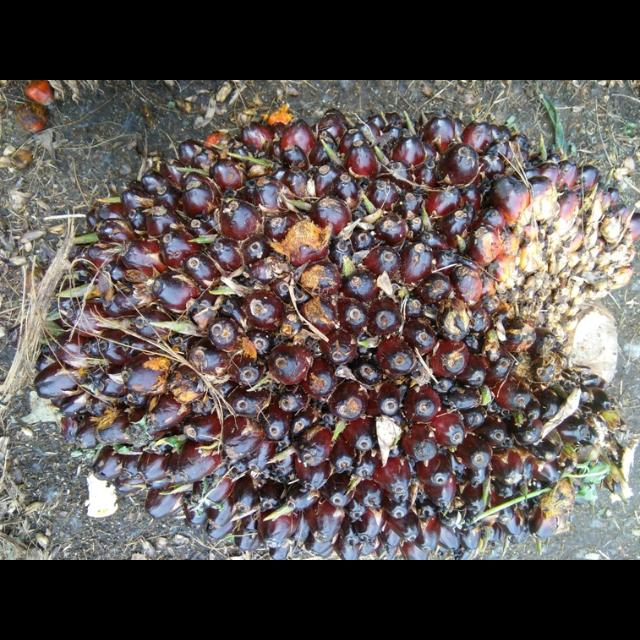Unripe: (34, 111, 639, 559)
